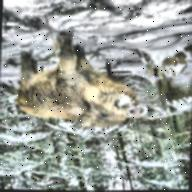boar: (14, 26, 159, 144)
